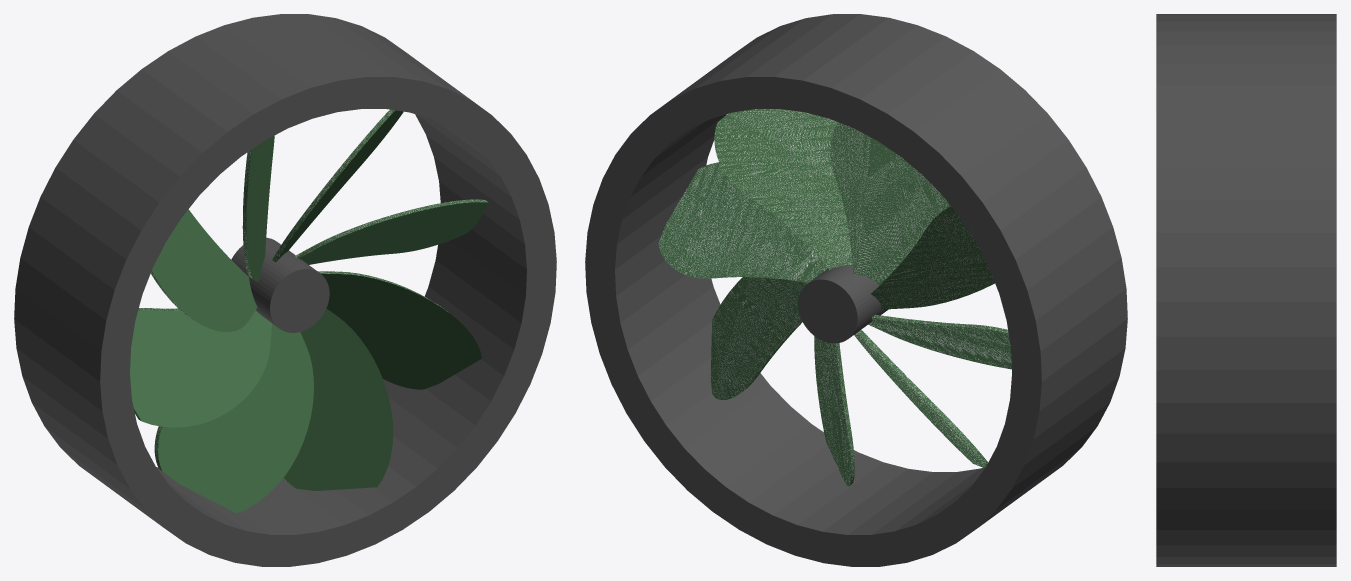
The model's file is turbine.dae.
3 renders of one model, left to right at view 1: azimuth 30°, elevation 25°; view 2: azimuth 150°, elevation 25°; view 3: azimuth 270°, elevation 25°, orthographic. The views are drawn at different scales.
Visible parts, largest first — view 1: instance_0 (×13); view 2: instance_0 (×11); view 3: instance_0.
Part boxes in pixels (x1,y1,x2,y2): instance_0 (×13): (14,14,556,566); instance_0 (×11): (585,14,1127,566); instance_0: (1156,14,1336,566).
Bounding box in the file's own units: 1811 × 591 × 1810.
